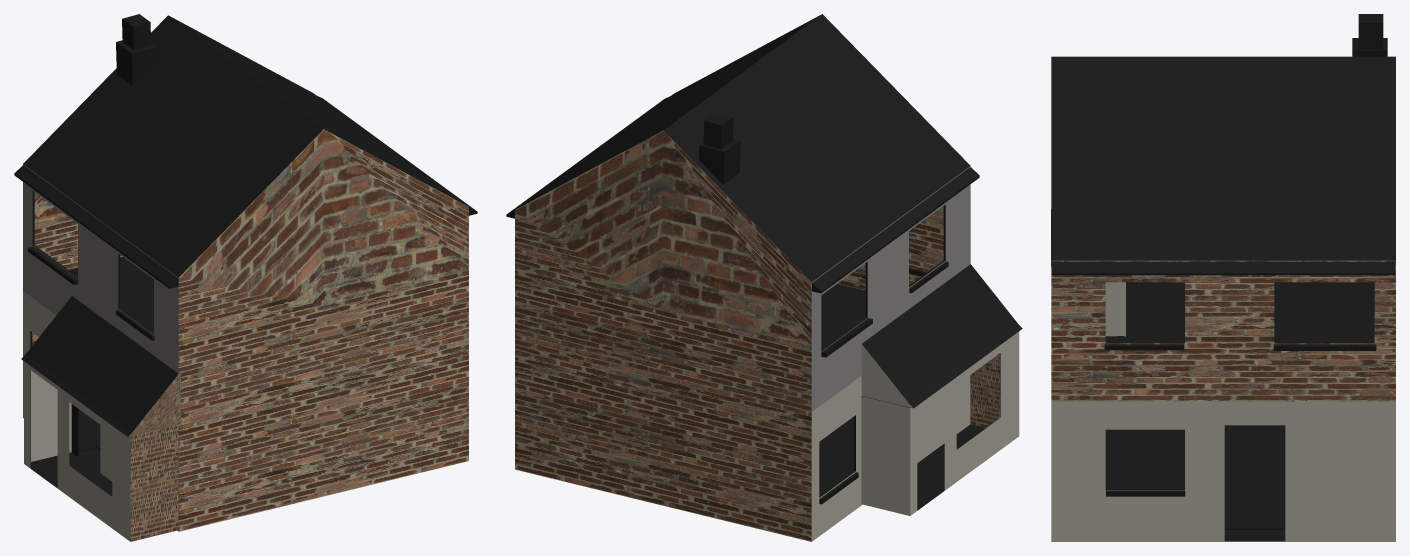
The model's file is housev4.glb.
3 views of the same model, side by side, from view 1: azimuth 30°, elevation 25°; view 2: azimuth 150°, elevation 25°; view 3: azimuth 270°, elevation 25° (orthographic). The views are drawn at different scales.
Visible parts, largest first — view 1: Cube.004; view 2: Cube.004; view 3: Cube.004.
Part boxes in pixels (x1,y1,x2,y2): Cube.004: [14, 14, 477, 541]; Cube.004: [506, 14, 1022, 541]; Cube.004: [1051, 14, 1395, 541].
Size of the model in its own units: 24.05 by 25.02 by 18.52.
4 materials, 1 textured.
